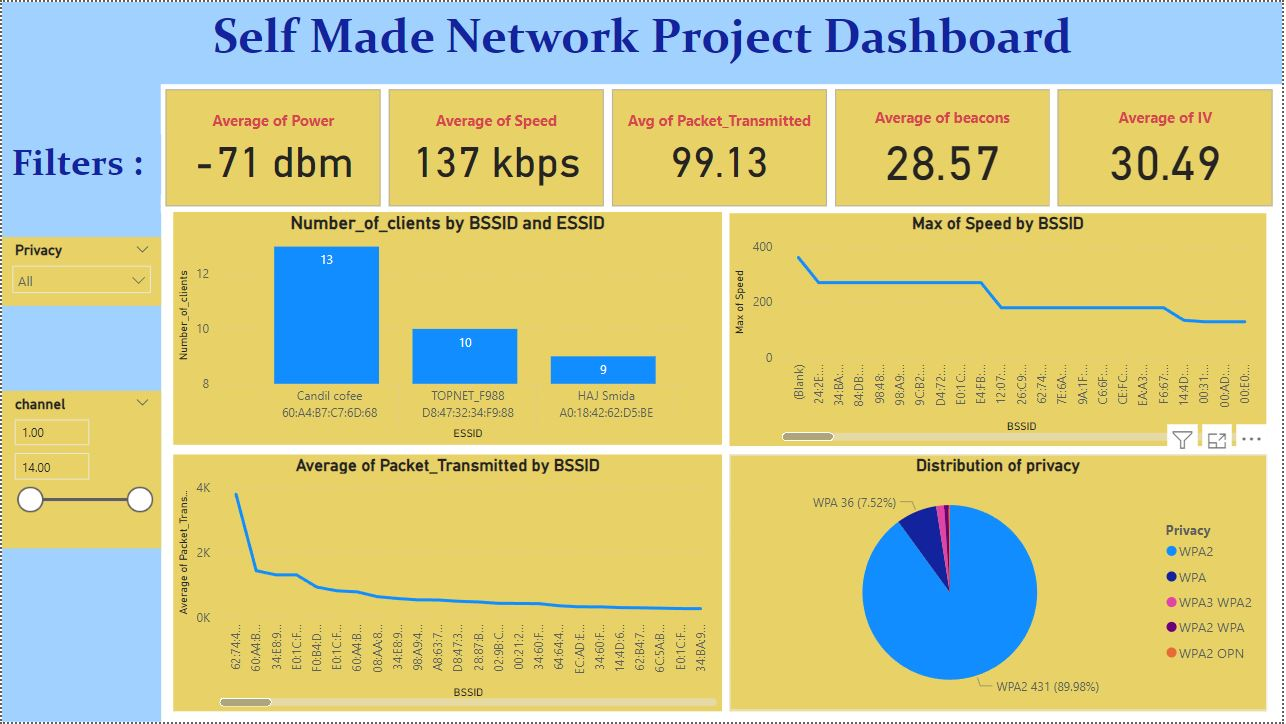

What the dashboard file says about the page in this screenshot:
{"tool":"powerbi","page":{"name":"Page 1","canvas":[1280,720],"ordinal":0},"visuals":[{"type":"textbox","box":[0,0,1280.8,82],"z":0},{"type":"textbox","box":[0,55.5,159.2,664.5],"z":1},{"type":"cardVisual","fields":{"Data":["network_edited.Power","network_edited.Speed","clients_edited.Packet_Transmitted","network_edited.beacons","network_edited.IV"]},"box":[159.2,82,1120.4,127.8],"z":2},{"type":"clusteredColumnChart","fields":{"Category":["clients_edited.BSSID","network_edited.ESSID"],"Y":["clients_edited.Number_of_clients"]},"box":[171.3,209.8,548.7,232.8],"z":3},{"type":"lineChart","fields":{"Y":["clients_edited.Packet_Transmitted"],"Category":["clients_edited.BSSID"]},"box":[171.3,452.3,548.7,256.9],"z":4},{"type":"lineChart","fields":{"Y":["network_edited.Speed"],"Category":["clients_edited.BSSID"]},"box":[727.2,211.1,536.7,232.8],"z":6},{"type":"pieChart","title":"Distribution of privacy","fields":{"Category":["network_edited.Privacy"],"Y":["network_edited.Privacy"]},"box":[728,452,537,257],"z":7},{"type":"slicer","fields":{"Values":["network_edited.Privacy"]},"box":[0,235.2,159.2,68.7],"z":8},{"type":"slicer","fields":{"Values":["network_edited.channel"]},"box":[0,388.3,159.2,158],"z":9},{"type":"textbox","box":[0,132.7,159.2,60.3],"z":10}]}

Visuals, with their boxes in screenshot pixels (x1, y1, x2, y2), scaled from the page's 1280x720 canvas onto the 1286x724 screenshot:
textbox: crop(0, 0, 1285, 82)
textbox: crop(0, 56, 160, 723)
cardVisual - network_edited.Power x network_edited.Speed: crop(160, 82, 1285, 211)
clusteredColumnChart - clients_edited.BSSID x network_edited.ESSID: crop(172, 211, 723, 445)
lineChart - clients_edited.Packet_Transmitted x clients_edited.BSSID: crop(172, 455, 723, 713)
lineChart - network_edited.Speed x clients_edited.BSSID: crop(731, 212, 1270, 446)
"Distribution of privacy" pieChart: crop(731, 455, 1271, 713)
slicer - network_edited.Privacy: crop(0, 237, 160, 306)
slicer - network_edited.channel: crop(0, 390, 160, 549)
textbox: crop(0, 133, 160, 194)
